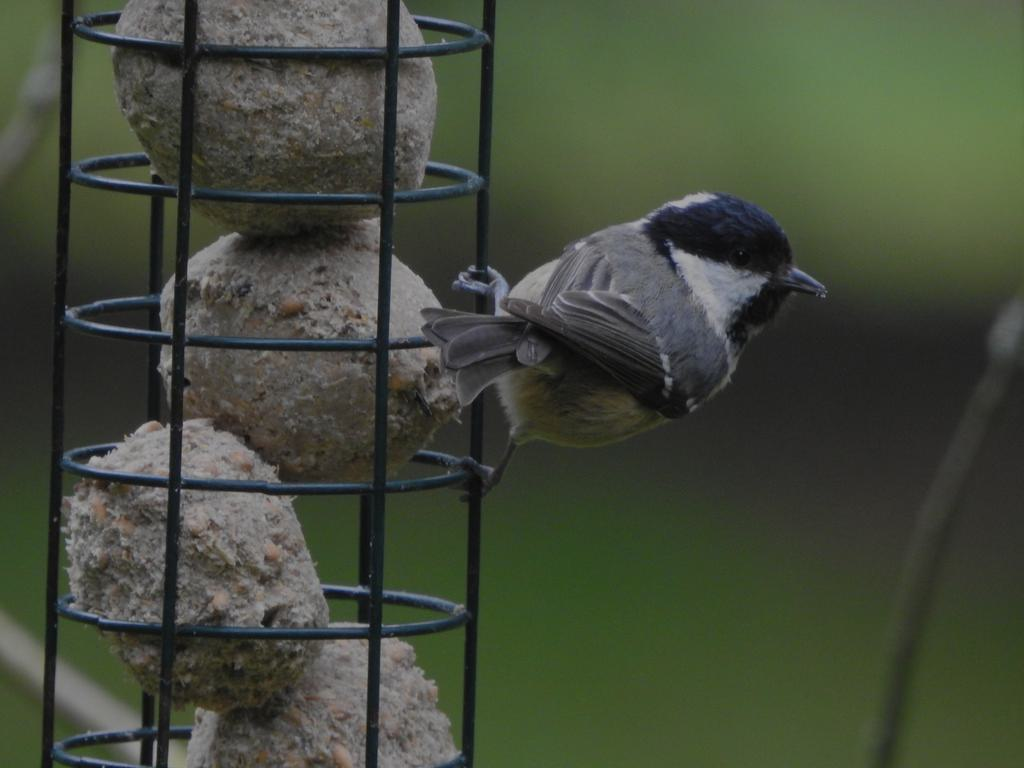PeriparusAter: (418, 188, 828, 505)
